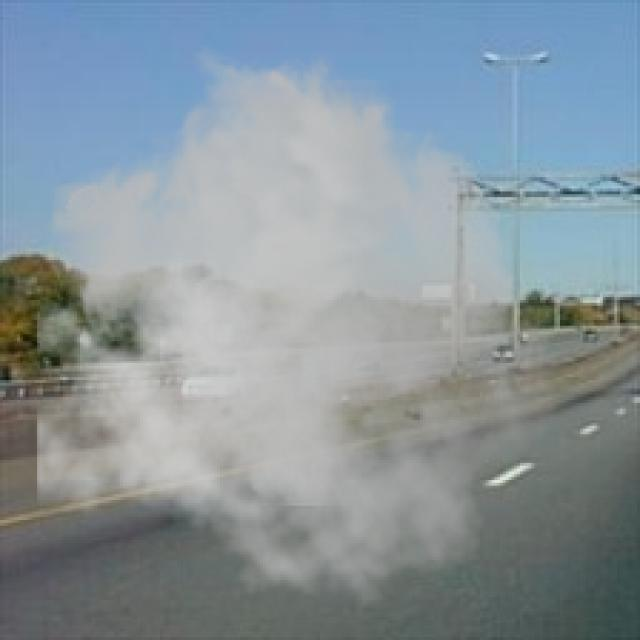smoke: (37, 43, 560, 611)
